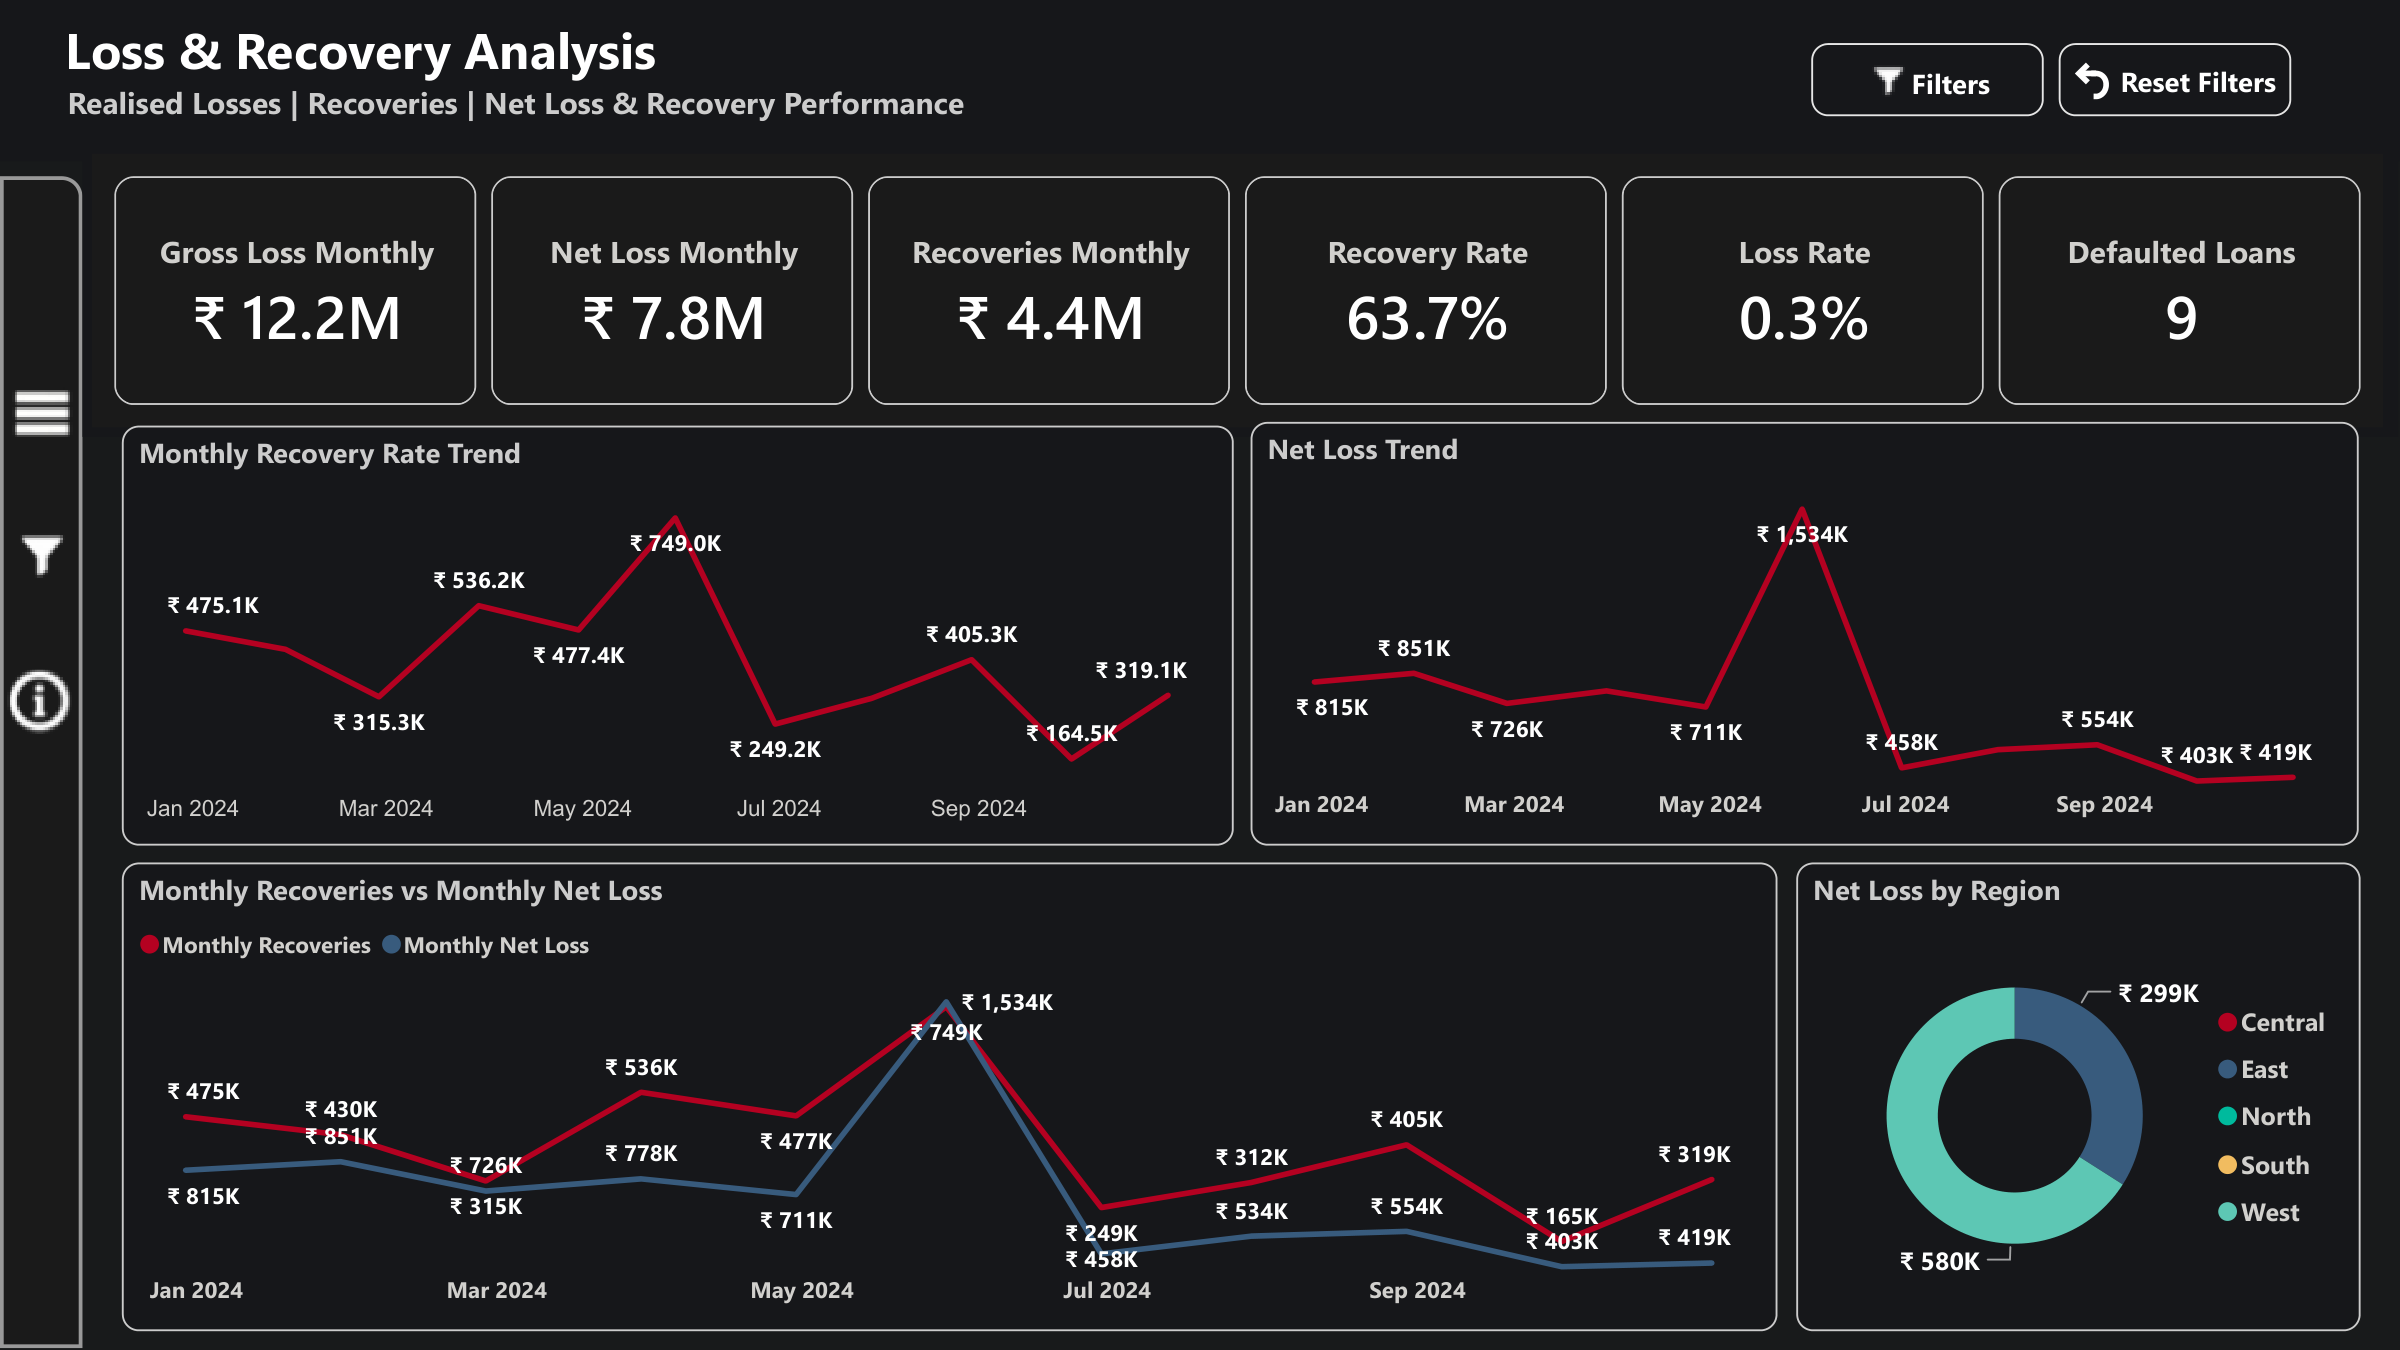

The page's visual inventory and layout, read from the dashboard file:
{"tool":"powerbi","page":{"name":"Loss & Recovery Analysis","canvas":[1280,720],"ordinal":4},"visuals":[{"type":"group","id":"g1","title":"default page ","box":[0,0,1280.2,86.5],"z":0},{"type":"textbox","title":"Executive Overview","box":[0,0,1280.2,86.5],"z":0,"group":"g1"},{"type":"cardVisual","fields":{"Data":["Monthly_Loss.Gross Loss Monthly","Monthly_Loss.Net Loss Monthly","Monthly_Loss.Recoveries Monthly","Loan_Master.Recovery Rate","Loan_Master.Loss Rate","Loan_Master.Defaulted Loans"]},"box":[44.5,77.2,1235.2,156.3],"z":0,"group":"g3"},{"type":"shape","box":[0,94.1,44.3,625],"z":0,"group":"g2"},{"type":"shape","box":[350.8,142.2,576.7,429.8],"z":0,"group":"g4"},{"type":"actionButton","box":[1097.5,23.1,124.4,39],"z":1000,"group":"g1"},{"type":"textbox","box":[350,172.9,577.3,398.9],"z":1000,"group":"g4"},{"type":"actionButton","box":[0,181.3,44.5,77.6],"z":1000,"group":"g2"},{"type":"lineChart","title":"Monthly Recovery Rate Trend","fields":{"Y":["Monthly_Loss.Monthly Recoveries"],"Category":["Monthly_Loss.ReportingDate"]},"box":[65.2,227,593.1,224],"z":1000,"group":"g3"},{"type":"actionButton","box":[965.9,23.1,124.4,39],"z":2000,"group":"g1"},{"type":"shape","box":[350,120,579.1,52.1],"z":2000,"group":"g4"},{"type":"actionButton","box":[0,257.9,44.8,76.9],"z":2000,"group":"g2"},{"type":"donutChart","title":"Net Loss by Region","fields":{"Category":["Loan_Master.Region"],"Y":["Sum(Loan_Master.NetLoss)"]},"box":[958.8,460.4,300.3,250],"z":2000,"group":"g3"},{"type":"group","id":"g2","title":"navigation bar","box":[0,94.1,44.8,625],"z":3000},{"type":"actionButton","box":[887.2,120,42.8,53.8],"z":3000,"group":"g4"},{"type":"lineChart","title":"Net Loss Trend","fields":{"Category":["Monthly_Loss.ReportingDate"],"Y":["Monthly_Loss.Monthly Net Loss"]},"box":[667.2,225.6,591.6,225.5],"z":3000,"group":"g3"},{"type":"actionButton","box":[0,334.9,44.8,78.3],"z":3000,"group":"g2"},{"type":"textbox","box":[398.6,120,406.2,49.7],"z":4000,"group":"g4"},{"type":"lineChart","title":"Monthly Recoveries vs Monthly Net Loss","fields":{"Category":["Monthly_Loss.ReportingDate"],"Y":["Monthly_Loss.Monthly Recoveries"],"Y2":["Monthly_Loss.Monthly Net Loss"]},"box":[65.2,460.4,883.2,250],"z":4000,"group":"g3"},{"type":"group","id":"g3","title":"charts unfolded 1","box":[44.5,77.2,1235.2,633.2],"z":5000},{"type":"actionButton","box":[377.2,125.9,27.2,32],"z":5000,"group":"g4"},{"type":"group","id":"g4","title":"info","box":[350,120,580,452],"z":7000}]}

Visuals, with their boxes on the page's 1280x720 design canvas (x1, y1, x2, y2). These are canvas units, not pixel positions in the 2400x1350 screenshot, which may show the page scaled, cropped or inside an application window:
"default page " group: Rect(0, 0, 1280, 86)
"Executive Overview" textbox: Rect(0, 0, 1280, 86)
cardVisual - Monthly_Loss.Gross Loss Monthly x Monthly_Loss.Net Loss Monthly: Rect(44, 77, 1280, 234)
shape: Rect(0, 94, 44, 719)
shape: Rect(351, 142, 928, 572)
actionButton: Rect(1098, 23, 1222, 62)
textbox: Rect(350, 173, 927, 572)
actionButton: Rect(0, 181, 44, 259)
"Monthly Recovery Rate Trend" lineChart: Rect(65, 227, 658, 451)
actionButton: Rect(966, 23, 1090, 62)
shape: Rect(350, 120, 929, 172)
actionButton: Rect(0, 258, 45, 335)
"Net Loss by Region" donutChart: Rect(959, 460, 1259, 710)
"navigation bar" group: Rect(0, 94, 45, 719)
actionButton: Rect(887, 120, 930, 174)
"Net Loss Trend" lineChart: Rect(667, 226, 1259, 451)
actionButton: Rect(0, 335, 45, 413)
textbox: Rect(399, 120, 805, 170)
"Monthly Recoveries vs Monthly Net Loss" lineChart: Rect(65, 460, 948, 710)
"charts unfolded 1" group: Rect(44, 77, 1280, 710)
actionButton: Rect(377, 126, 404, 158)
"info" group: Rect(350, 120, 930, 572)
